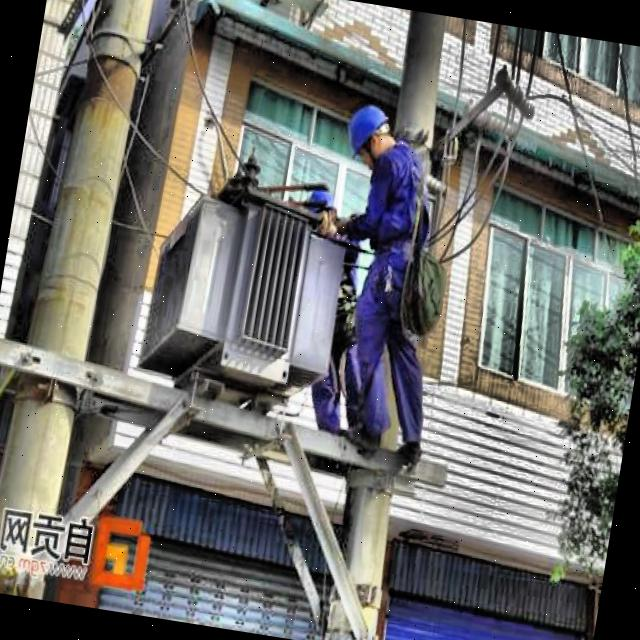helmet: (344, 103, 396, 166), (299, 182, 343, 238)
